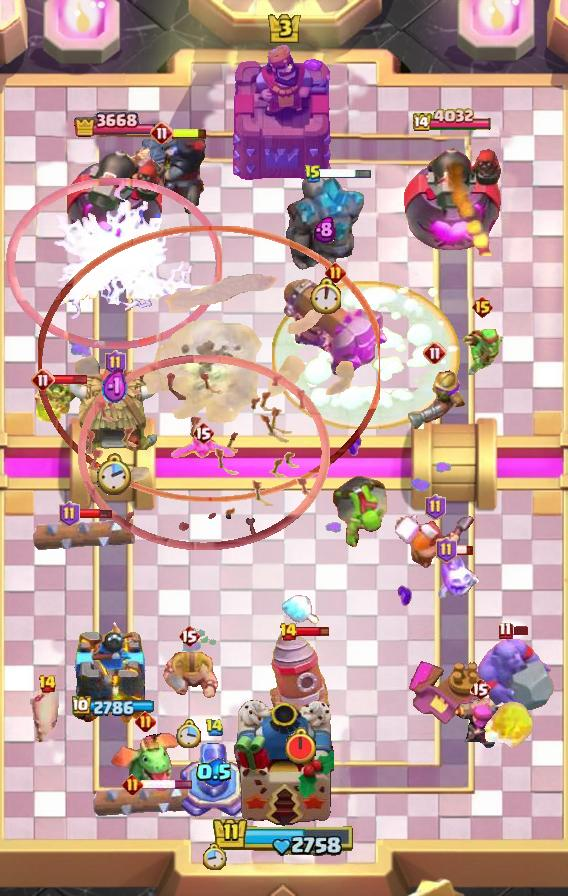archer-queen: (478, 635, 556, 715)
bar-level: (330, 471, 390, 547)
barbarian: (168, 435, 238, 463)
barbarian-evolution: (5, 178, 222, 350)
bat: (281, 594, 319, 626)
bomb-tower: (403, 367, 467, 433)
bomber-evolution: (35, 382, 83, 426)
cannoneer-tower: (283, 177, 367, 275)
clock: (212, 816, 356, 858)
electro-spirit: (196, 757, 233, 786), (102, 369, 128, 408), (314, 216, 336, 243)
electro-wizard: (106, 730, 184, 792)
elixir: (97, 453, 133, 497), (282, 726, 318, 765), (309, 277, 341, 315), (176, 719, 202, 748), (202, 842, 227, 869)
emote: (319, 167, 373, 180), (142, 778, 195, 790), (172, 128, 208, 141), (77, 508, 113, 521), (295, 625, 330, 638), (52, 374, 87, 385), (454, 544, 474, 556), (510, 624, 530, 636)
furnace: (281, 276, 389, 376)
giant: (30, 688, 64, 746)
giant-snowball: (460, 324, 504, 378)
goblin-giant: (158, 650, 220, 702)
inferno-dragon: (139, 130, 215, 216)
king-tower: (230, 43, 338, 181), (234, 700, 334, 826)
magic-archer: (270, 628, 330, 722)
mighty-miner: (395, 514, 475, 576)
minion: (32, 518, 139, 554), (92, 784, 199, 820)
mirror: (437, 551, 479, 601)
phoenix-big: (272, 281, 460, 429)
prince: (68, 367, 162, 457)
queen-tower: (72, 619, 156, 731)
royal-ghost: (38, 226, 380, 502)
royal-recruit: (177, 739, 251, 823)
selected: (73, 109, 154, 141), (414, 108, 495, 134), (71, 696, 156, 718)
skeleton-barrel: (78, 353, 330, 551)
text: (150, 121, 174, 145), (423, 341, 447, 365), (31, 368, 55, 392), (471, 295, 494, 319), (105, 350, 126, 376), (426, 494, 447, 520), (59, 501, 80, 527), (435, 537, 456, 563), (192, 421, 214, 445), (178, 624, 200, 648), (469, 677, 491, 701), (121, 773, 142, 795), (325, 261, 346, 282), (135, 712, 156, 733), (38, 674, 58, 694), (278, 622, 297, 642), (304, 164, 322, 184), (205, 719, 224, 737), (499, 621, 513, 639)
tombstone: (451, 696, 509, 750)
tower-bar: (63, 136, 165, 256), (404, 138, 505, 256)
valkyrie: (484, 697, 536, 753)
